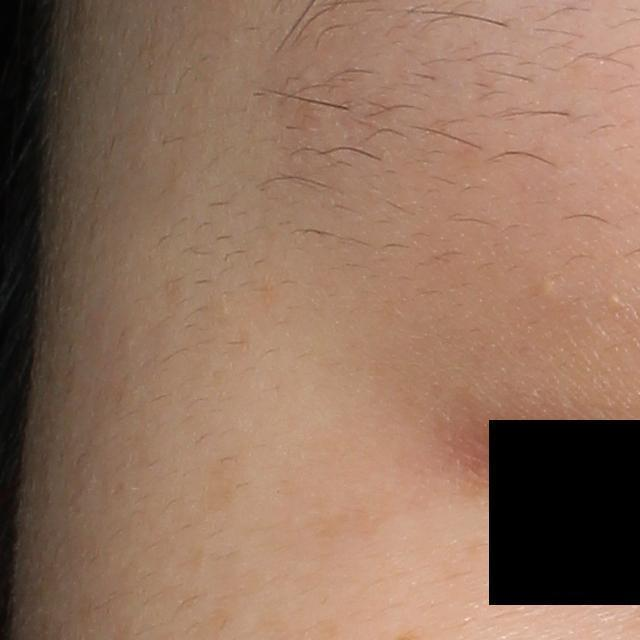melasma: (189, 456, 246, 524), (305, 503, 397, 543)
other: (537, 278, 555, 301)
